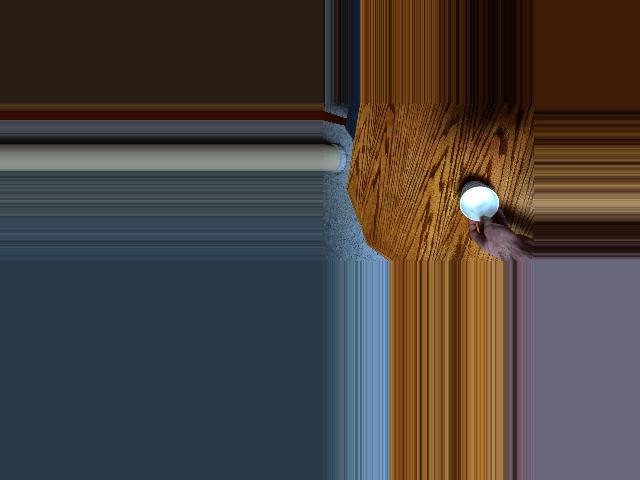cotage: (453, 182, 506, 227)
